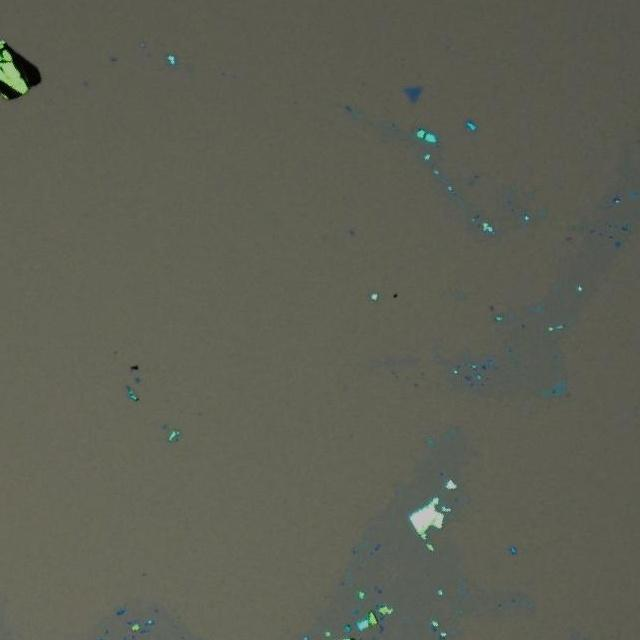monolayer-eWW4: (403, 83, 423, 104)
